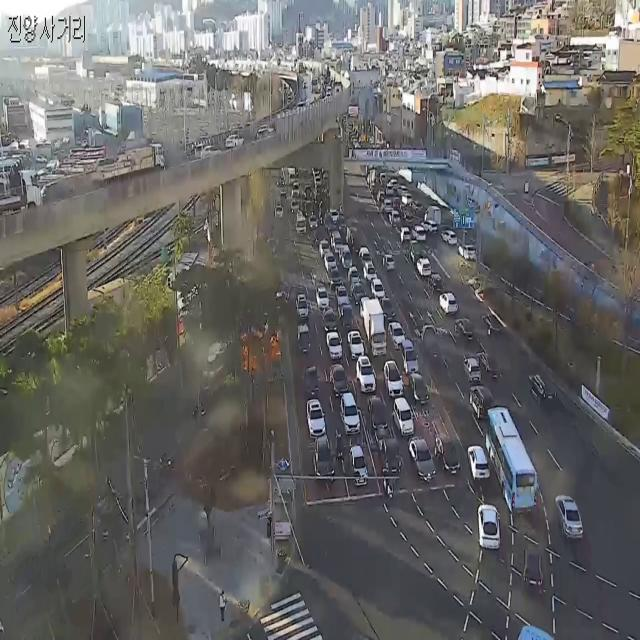bus: (379, 460, 399, 503), (332, 424, 347, 470)
car: (482, 400, 538, 517), (513, 615, 555, 640)
motorcycle: (468, 484, 506, 561), (549, 483, 583, 544), (523, 356, 556, 417), (410, 432, 440, 487), (465, 380, 495, 430), (433, 430, 463, 478), (254, 120, 288, 161), (522, 543, 546, 598), (312, 433, 337, 485), (366, 394, 394, 436), (354, 354, 379, 396), (464, 444, 488, 487), (399, 332, 424, 373), (475, 347, 499, 389), (385, 308, 409, 349), (408, 361, 432, 402), (453, 316, 477, 356), (383, 357, 405, 399), (338, 397, 358, 443), (391, 398, 417, 432), (306, 398, 326, 439), (453, 361, 483, 387), (222, 129, 247, 160), (349, 448, 368, 488), (330, 363, 349, 399), (438, 290, 462, 317), (200, 142, 223, 170), (347, 328, 369, 357), (484, 312, 502, 347), (303, 362, 322, 395), (378, 290, 397, 322), (294, 324, 313, 356), (327, 331, 344, 360), (457, 239, 478, 262), (313, 286, 330, 313), (322, 307, 337, 335), (427, 272, 445, 295), (329, 264, 344, 290), (369, 279, 387, 300), (417, 256, 432, 280), (350, 282, 365, 306), (362, 259, 378, 281), (398, 225, 414, 245), (336, 283, 349, 307), (440, 228, 456, 247), (358, 247, 374, 265), (412, 225, 424, 242), (349, 266, 358, 285), (387, 256, 398, 270)
truck: (91, 136, 171, 192), (0, 164, 49, 224), (363, 297, 388, 355), (373, 430, 403, 476), (408, 241, 426, 268), (424, 204, 443, 224), (340, 303, 353, 331)
